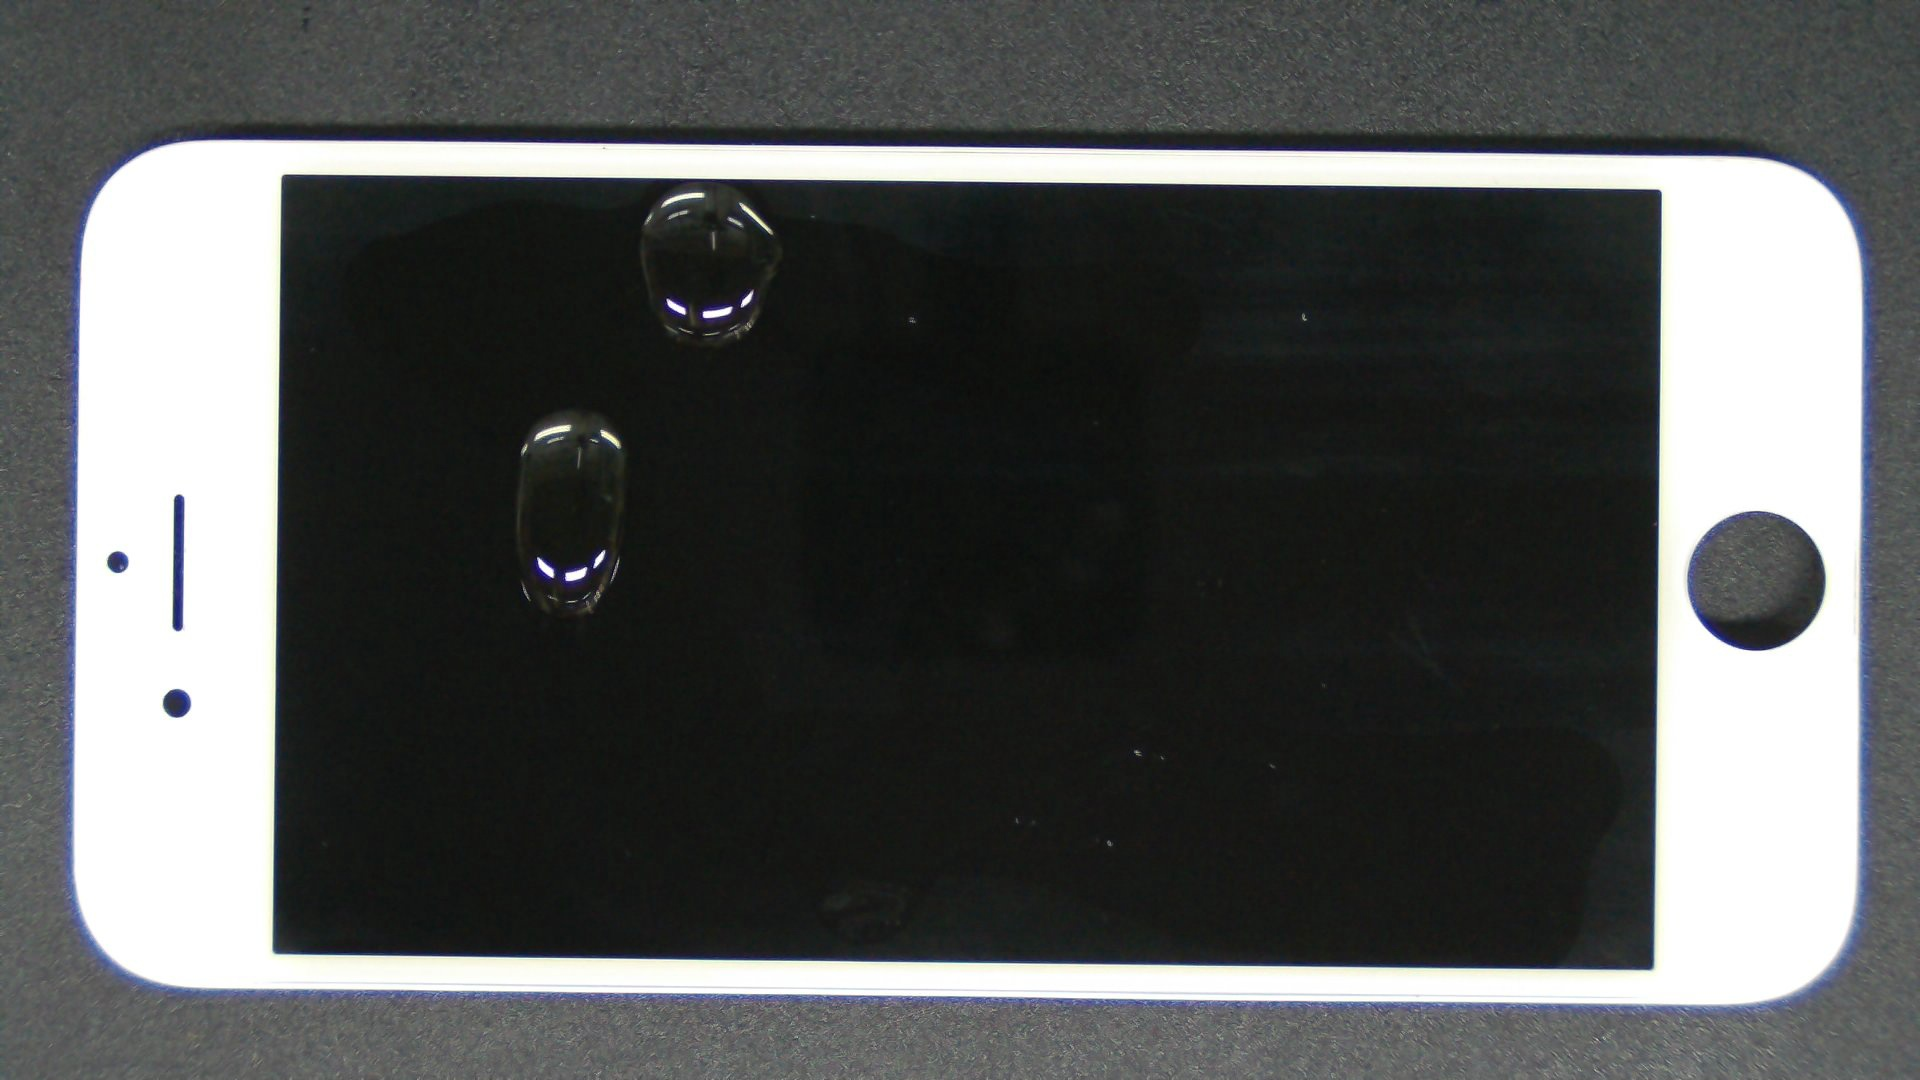oil: (287, 203, 858, 611), (348, 90, 1043, 272)
